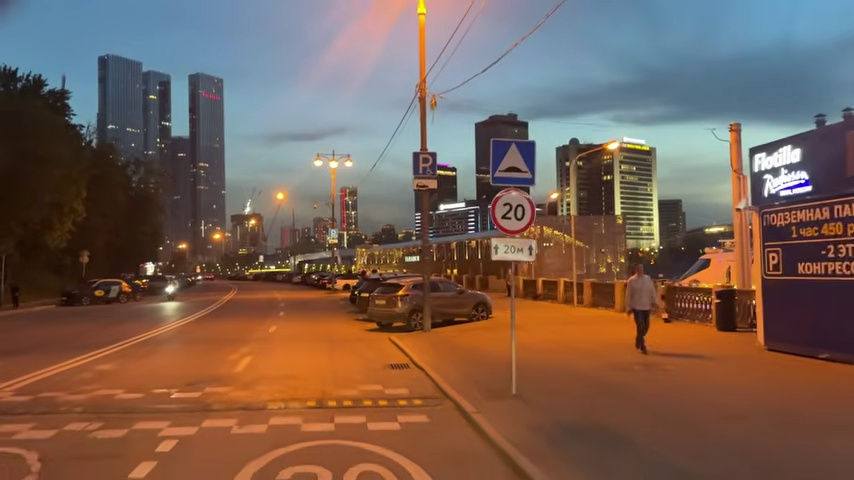acesa: (273, 189, 289, 204)
